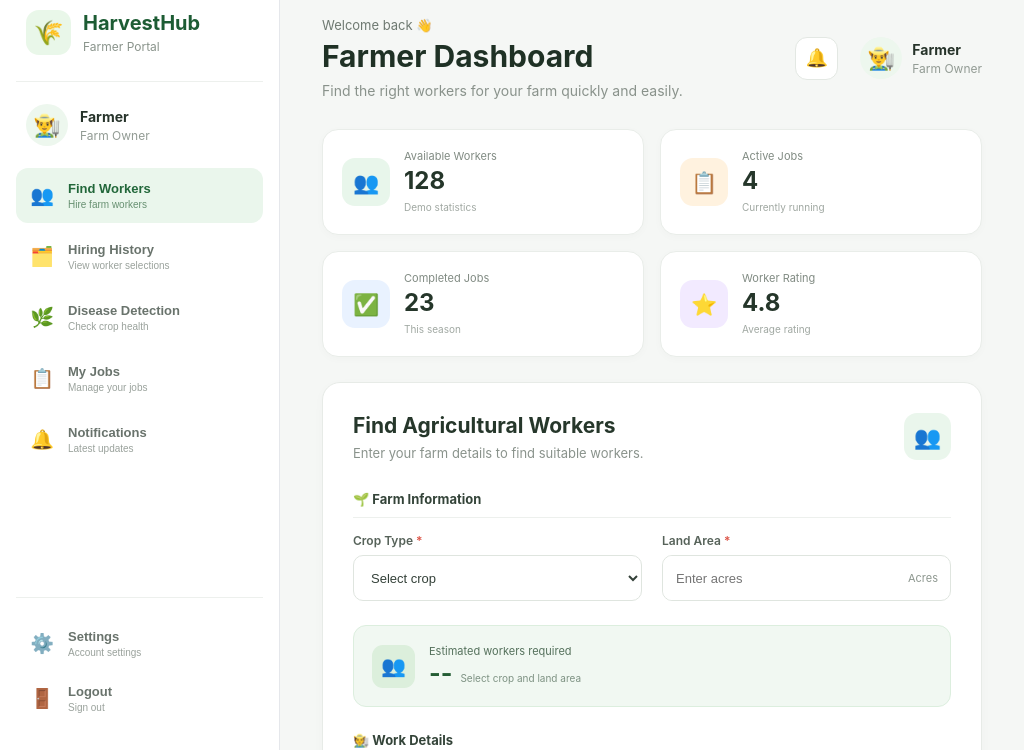
loads posted jobs and lets the farmer accept a saved worker application
The image size is (1024, 750).
Click the button "📋 My Jobs Manage your jobs" at point(140, 378), box [16,351,263,406]
(page scrolled)
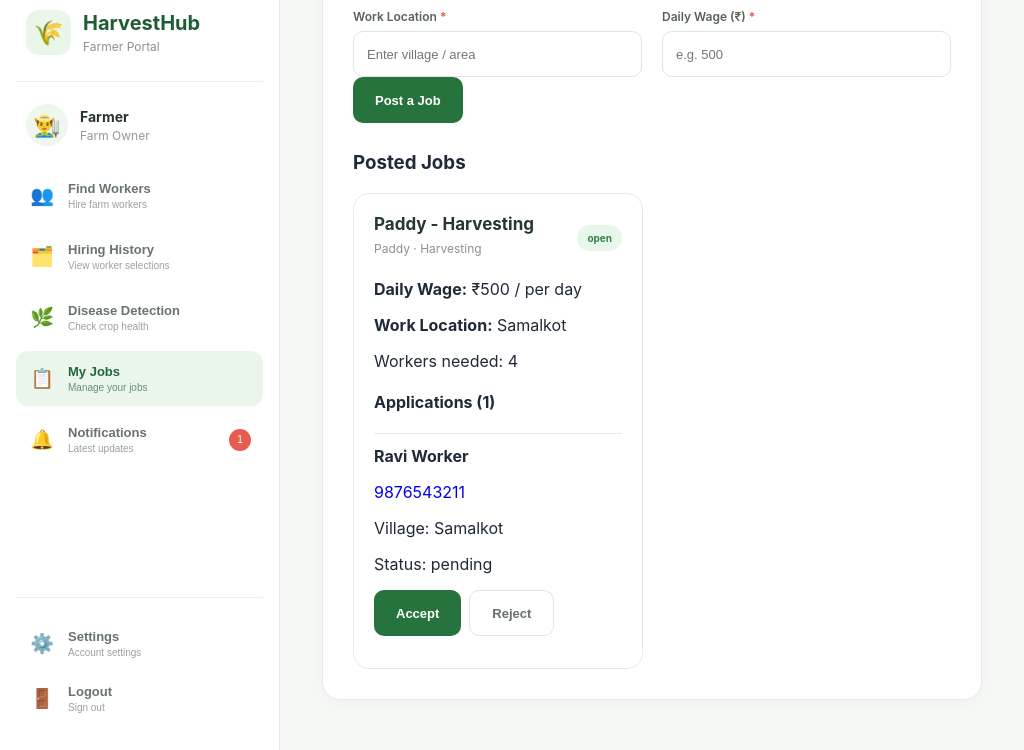
Now the heading "Paddy - Harvesting" is shown, box [374,214,534,234]
Now the text "Ravi Worker" is shown, box [374,446,468,466]
Click the button "Accept" at point(418, 613), box [374,590,461,636]
(page scrolled)
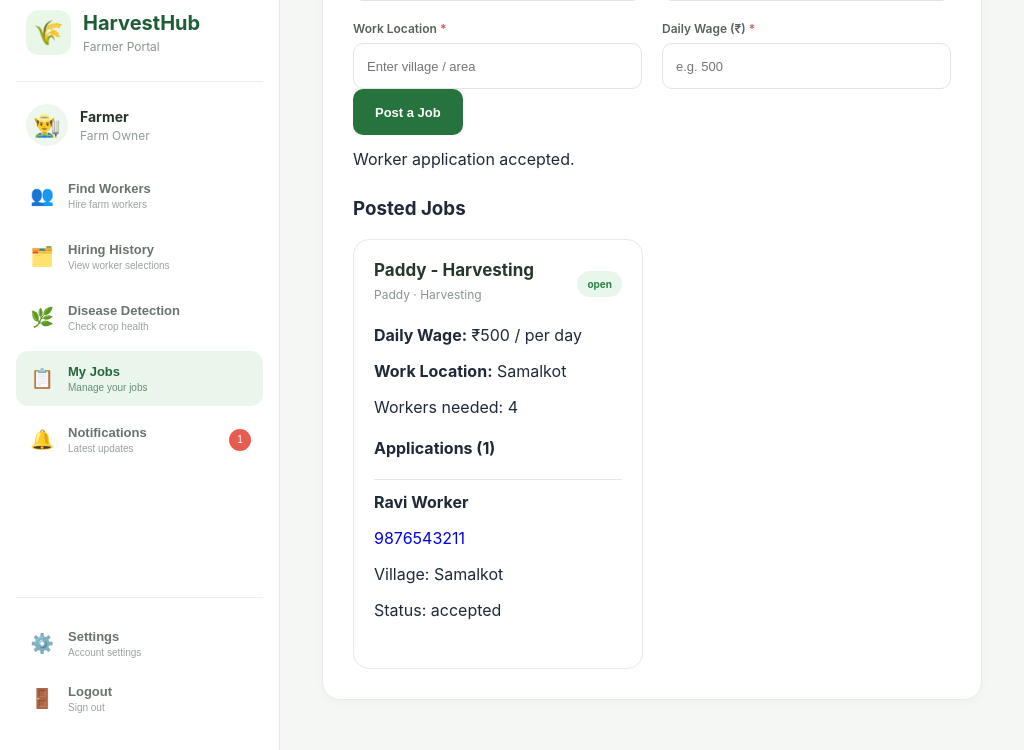
Now the text "Worker application accepted." is shown, box [353,149,575,169]
